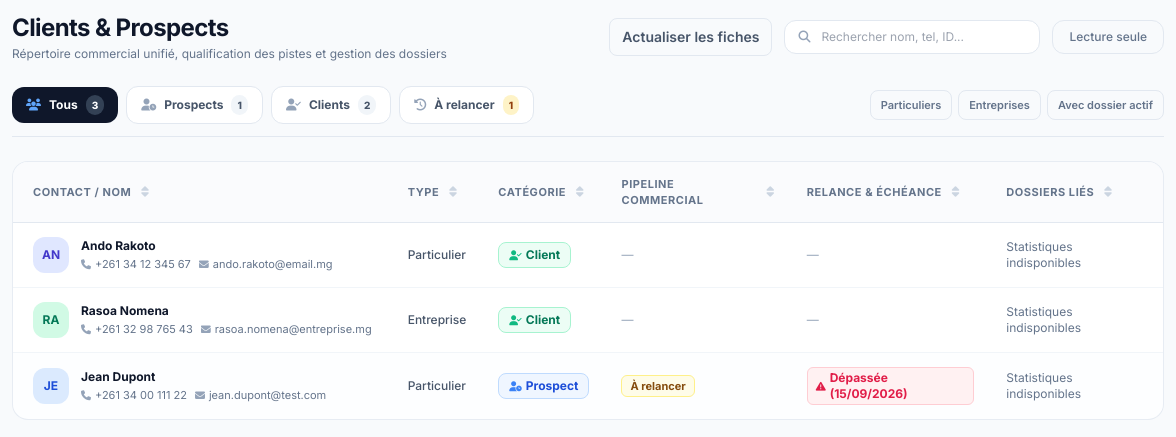
Test case: CustomersPage › 4. Filtres prospects et entreprises
Expected: the text "Ando Rakoto" is shown, [81,238,156,254]
Click the button "Prospects 1".
click(195, 105)  # box [126,86,263,124]
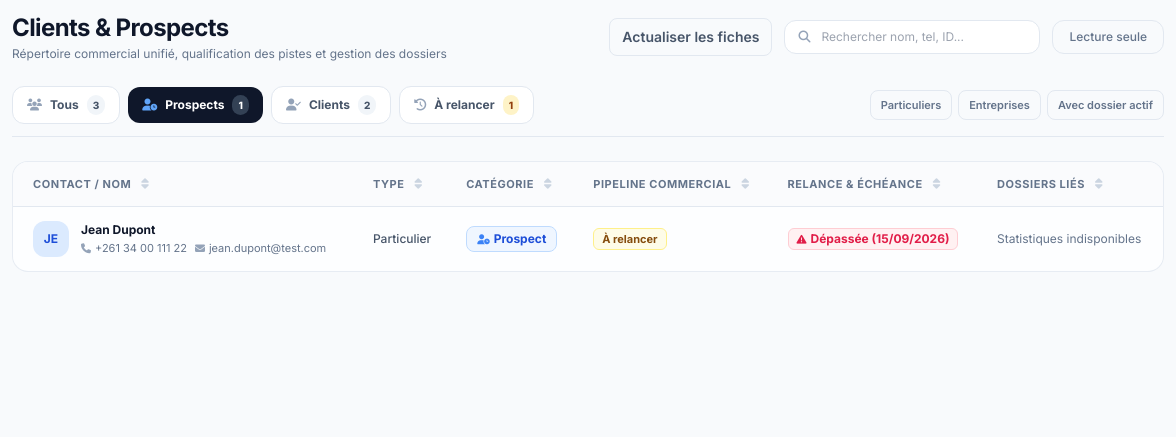
Expected: the text "Jean Dupont" is shown, [81,222,156,238]
Expected: the button "Ando Rakoto" is gone
Click the button "Entreprises".
click(1000, 105)  # box [958,90,1041,120]
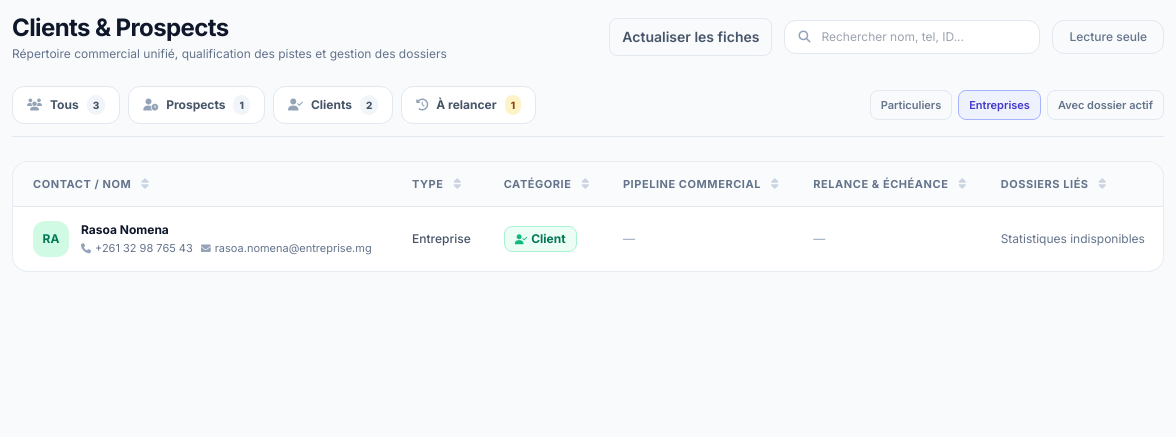
Expected: the text "Rasoa Nomena" is shown, [81,222,169,238]
Expected: the button "Jean Dupont" is gone
